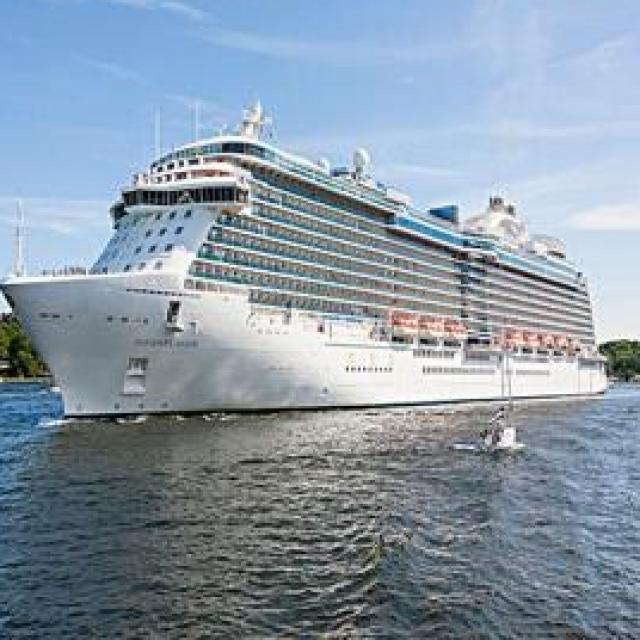houseboat: (470, 393, 528, 457)
passenger ship: (5, 117, 610, 418)
